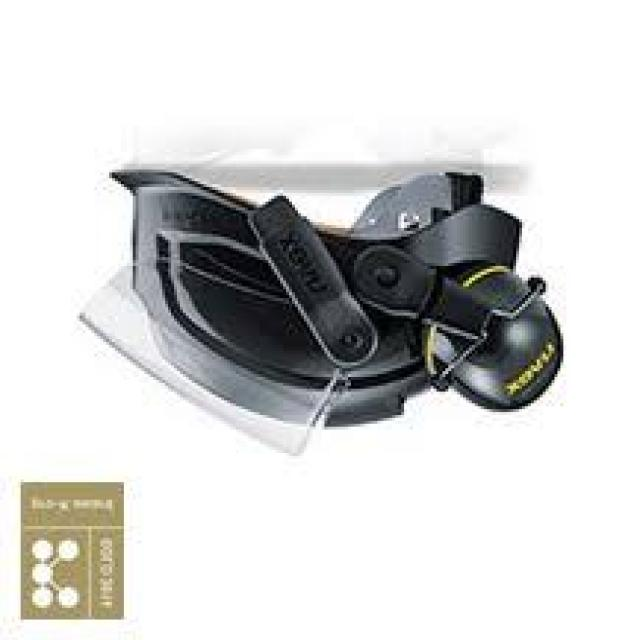Ear-Protection: (419, 260, 557, 430)
Helmet: (82, 166, 536, 438)
